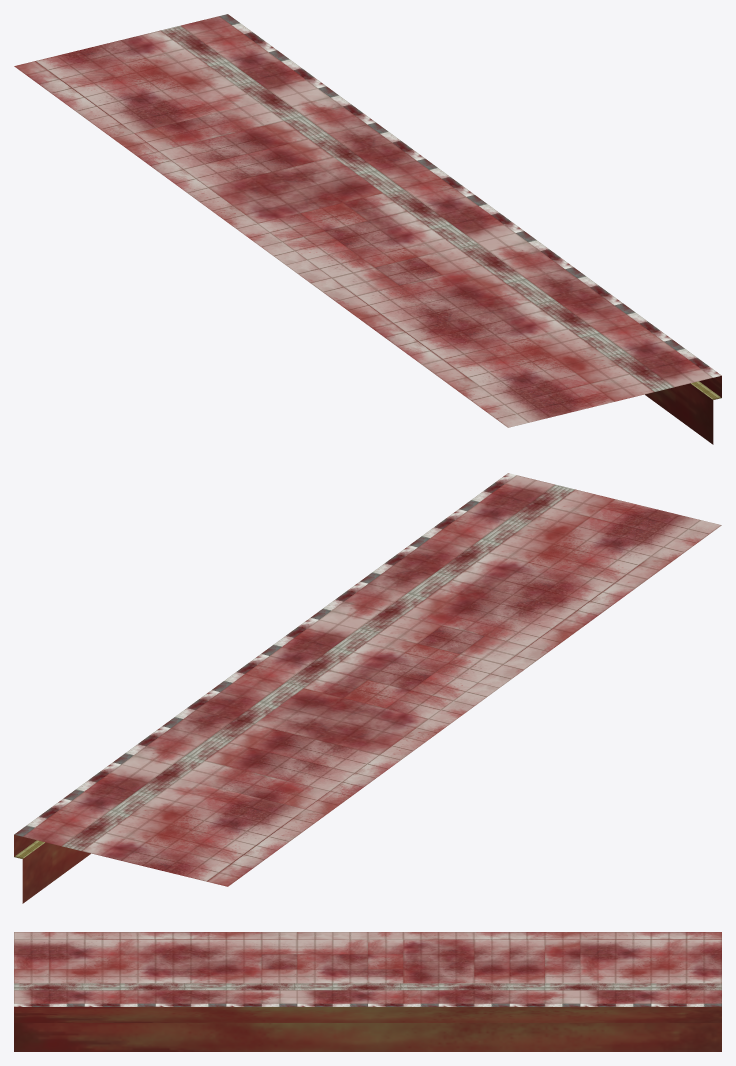
File: PlatformBloodyUvs.fbx
The picture shows the model from 3 angles, top to bottom: view 1: azimuth 30°, elevation 25°; view 2: azimuth 150°, elevation 25°; view 3: azimuth 270°, elevation 25°; orthographic projection. The views are drawn at different scales.
Parts seen in each view (by area): view 1: PlatformHalf; view 2: PlatformHalf; view 3: PlatformHalf.
Boxes of the visible parts, <box> form: PlatformHalf: <box>14,14,721,444</box>; PlatformHalf: <box>14,473,721,903</box>; PlatformHalf: <box>14,932,721,1051</box>.
Size of the model in its own units: 500 by 150 by 2000.
